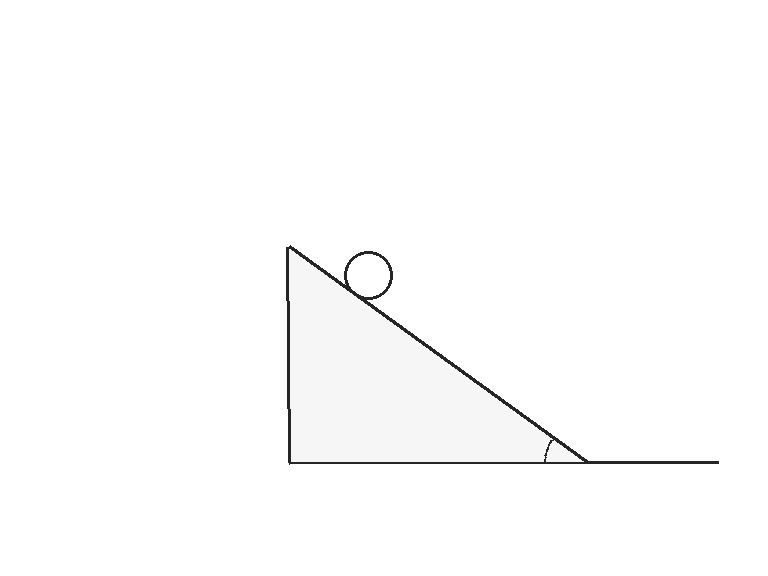ball: (342, 249, 394, 301)
ramp: (287, 245, 587, 464)
